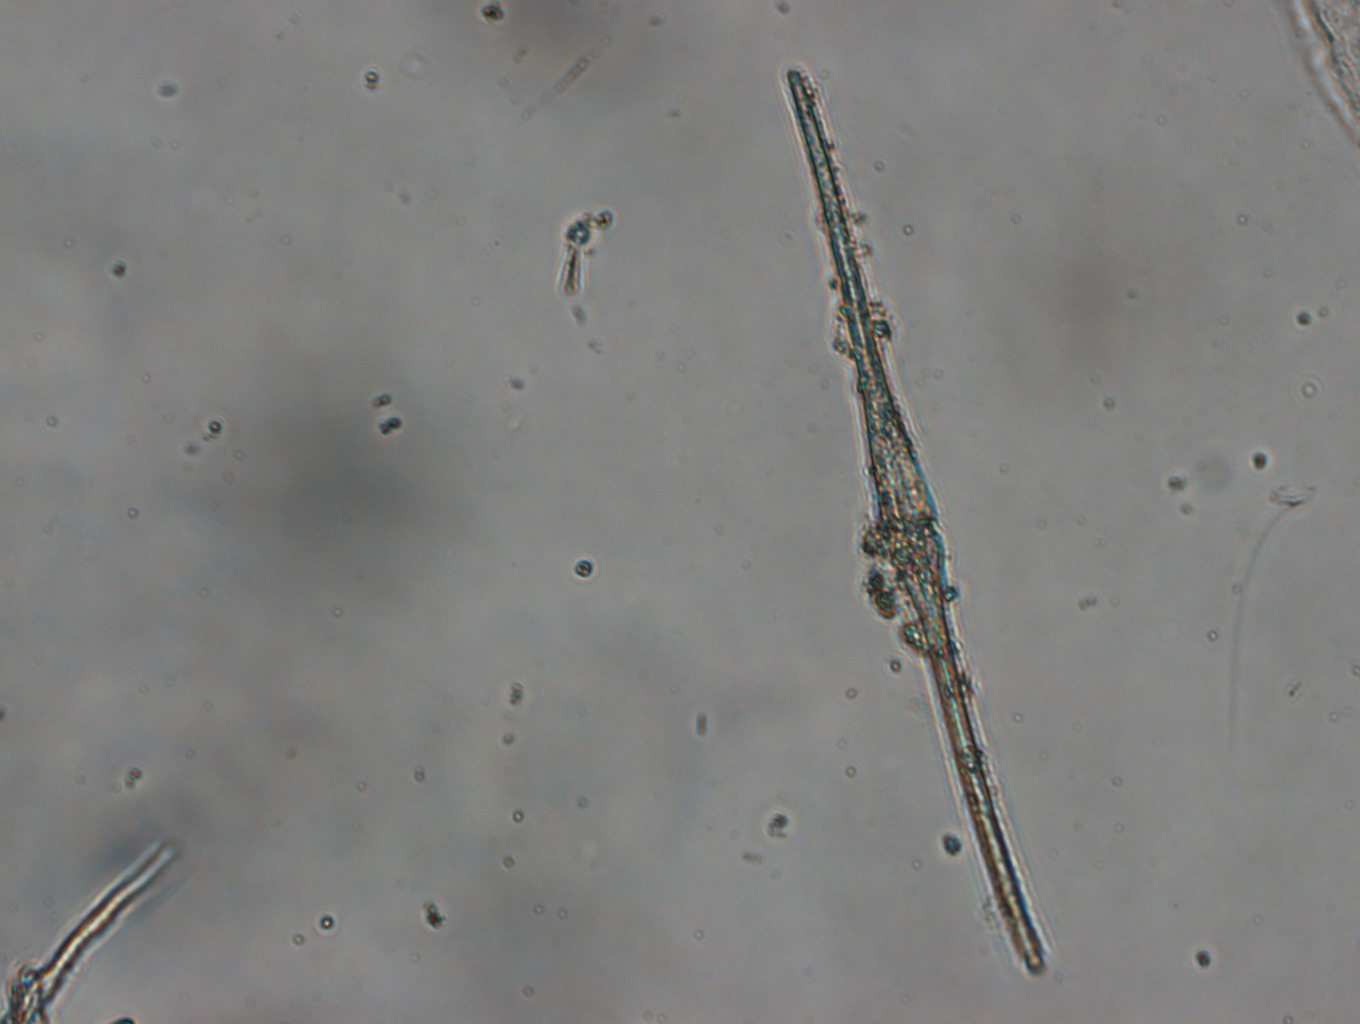ceratium fusus: (776, 57, 1062, 984)
